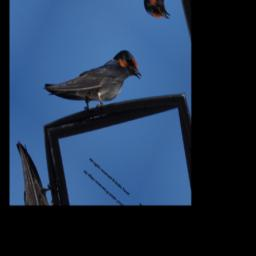Swallow: (42, 8, 146, 147)
